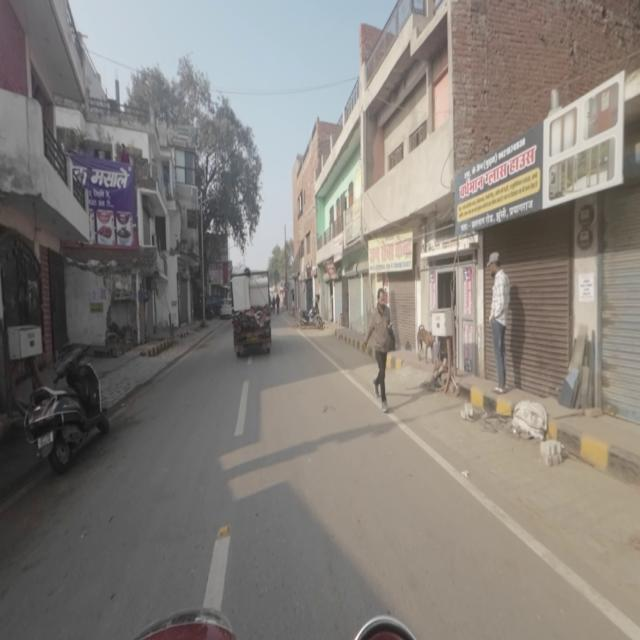Garbage: (512, 397, 547, 442), (539, 434, 563, 471), (457, 394, 475, 424)
